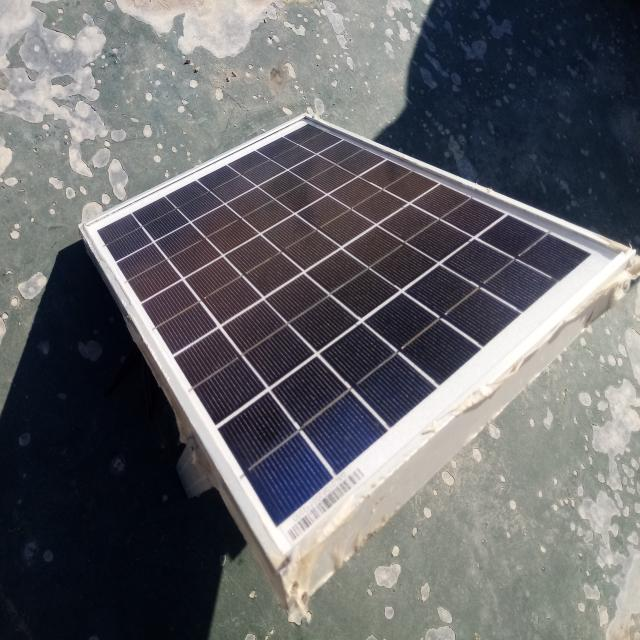no faulty: (78, 111, 629, 566)
